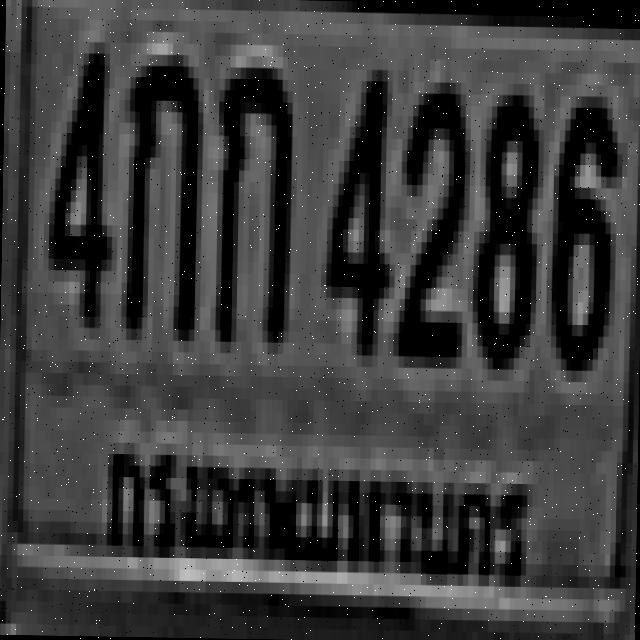10GorGai: (210, 55, 288, 342), (121, 42, 199, 329)
2: (393, 70, 466, 357)
4: (320, 57, 388, 344), (42, 41, 110, 316)
6: (545, 83, 613, 360)
8: (466, 82, 534, 358)
Bangkok: (88, 422, 534, 612)
